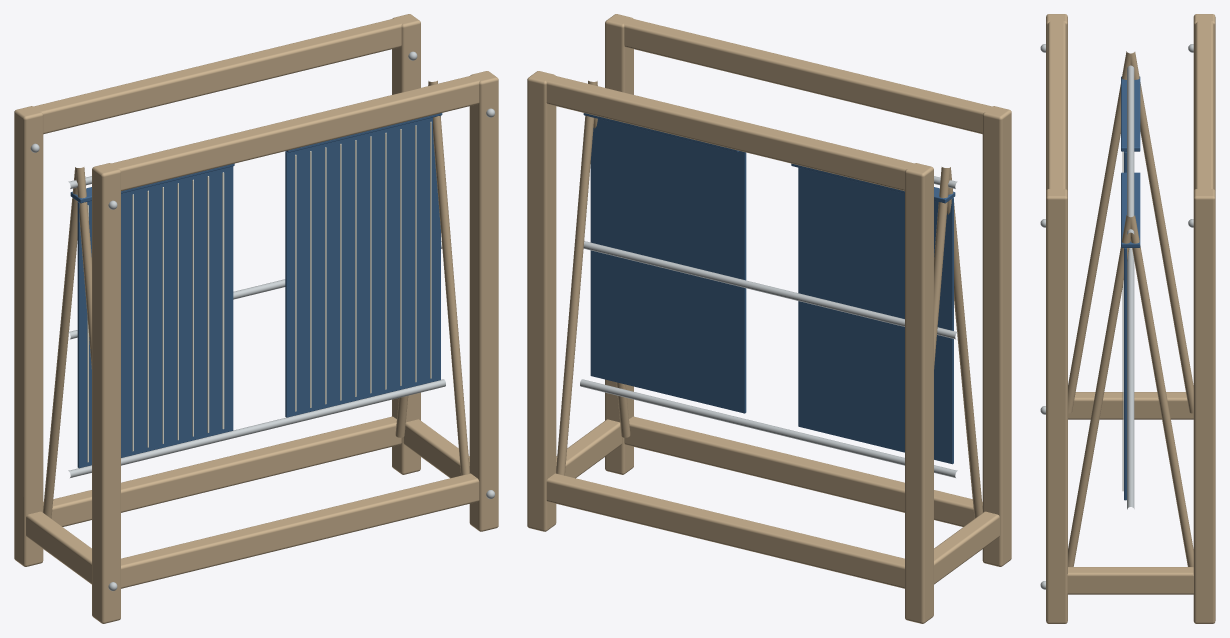
Rendered from textile-weaving-and-dye-workshop-drying-frame-402a0d83__29569.glb.
The picture shows the model from 3 angles, left to right: view 1: azimuth 30°, elevation 25°; view 2: azimuth 150°, elevation 25°; view 3: azimuth 270°, elevation 25°; orthographic projection. The views are drawn at different scales.
Parts seen in each view (by area): view 1: drying-frame; view 2: drying-frame; view 3: drying-frame.
Part boxes in pixels (x1,y1,x2,y2): drying-frame: [14, 14, 498, 623]; drying-frame: [527, 14, 1011, 623]; drying-frame: [1040, 14, 1215, 623].
Size of the model in its own units: 1.8 by 1.95 by 0.723.
